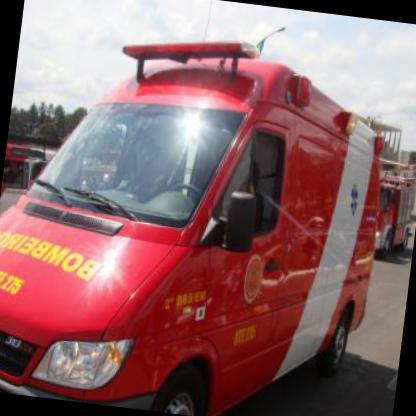truck: (0, 0, 405, 415), (0, 131, 60, 262)
